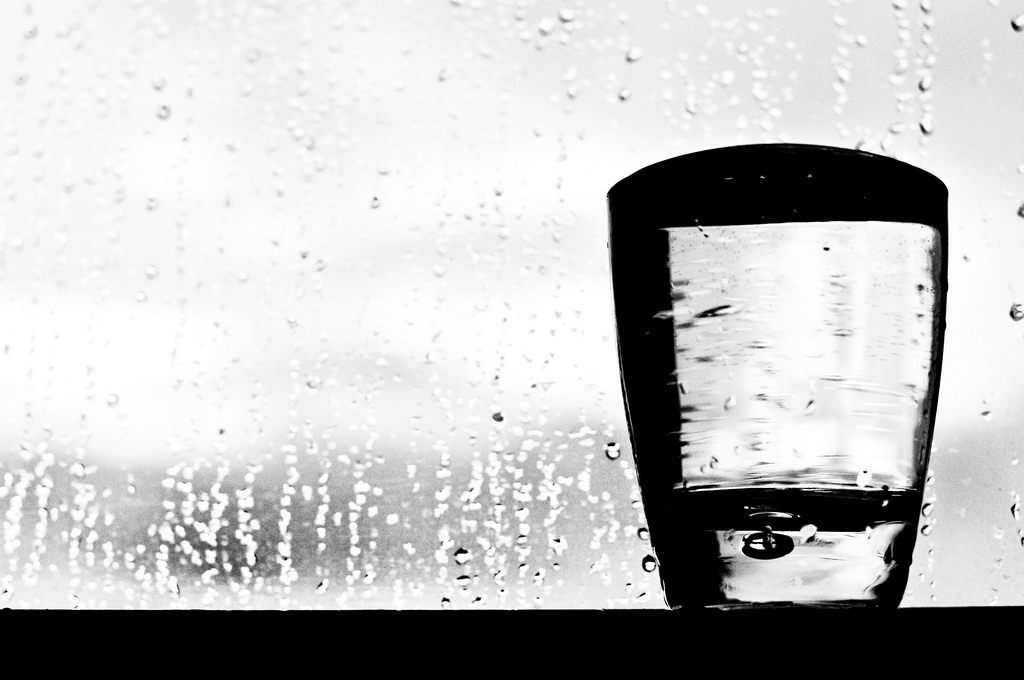glass of water: (632, 170, 911, 601)
